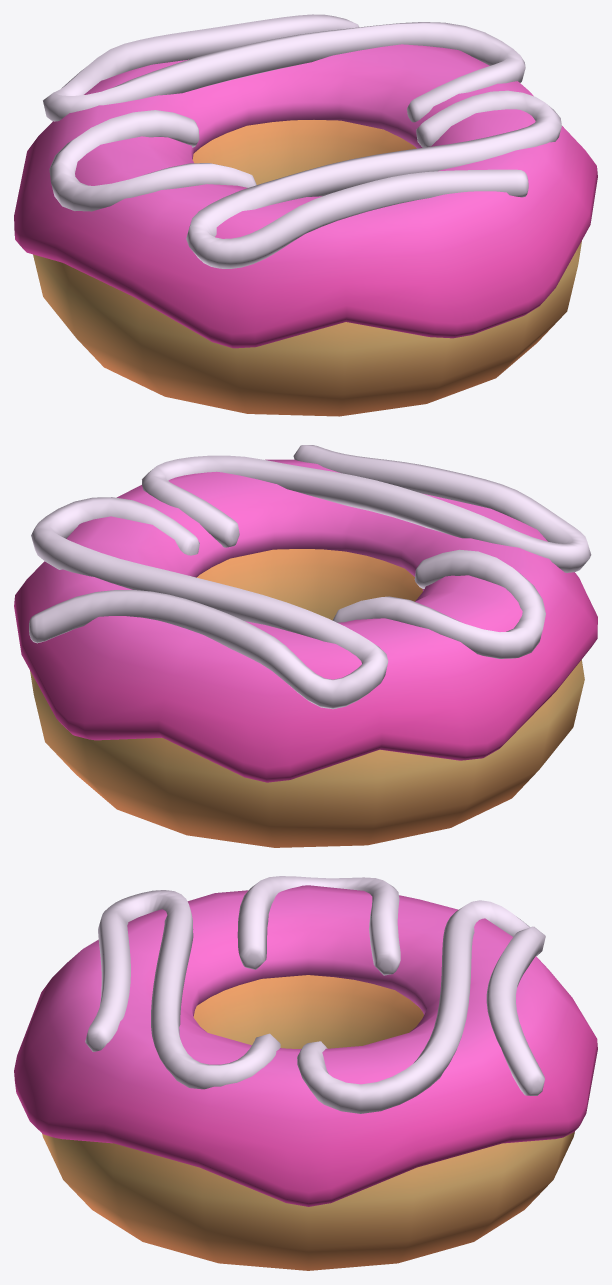
Rendered from Donut_V2_01.fbx.
3 views of the same model, one above another, from view 1: azimuth 30°, elevation 25°; view 2: azimuth 150°, elevation 25°; view 3: azimuth 270°, elevation 25° (orthographic).
Parts seen in each view (by area): view 1: Donut_V2_01; view 2: Donut_V2_01; view 3: Donut_V2_01.
Part boxes in pixels (x1,y1,x2,y2): Donut_V2_01: (14,14,597,416); Donut_V2_01: (14,445,597,847); Donut_V2_01: (14,876,597,1270).
Size of the model in its own units: 42.98 by 18.23 by 43.01.
